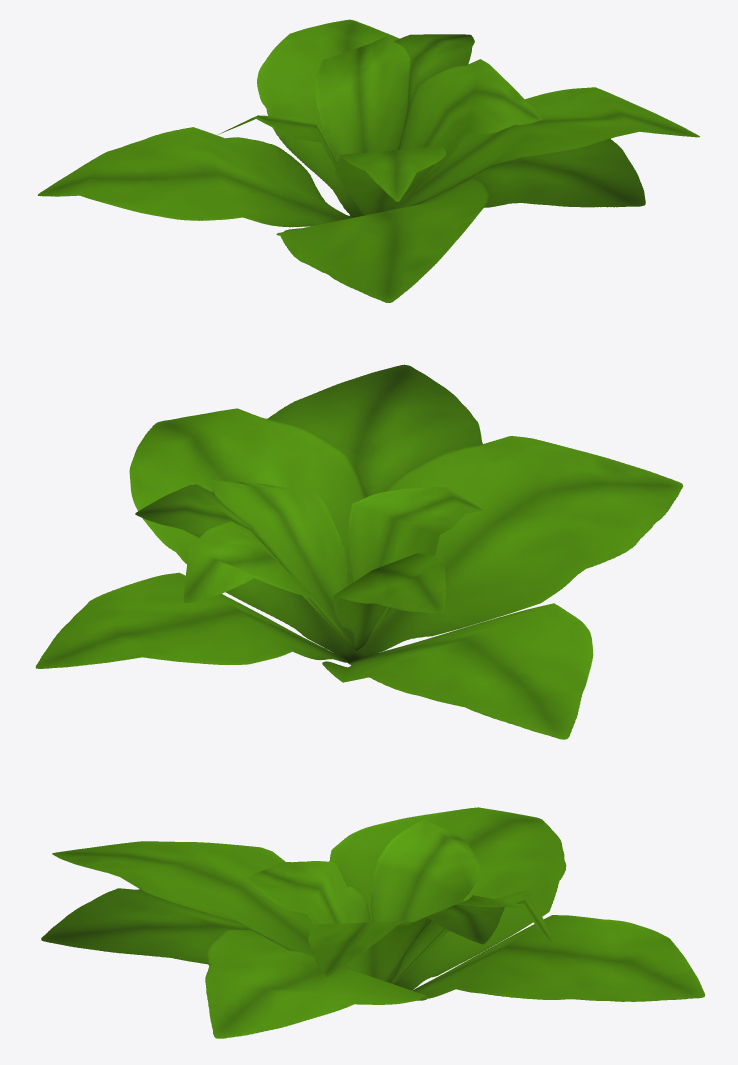
Rendered from Plant2.fbx.
The picture shows the model from 3 angles, top to bottom: view 1: azimuth 30°, elevation 25°; view 2: azimuth 150°, elevation 25°; view 3: azimuth 270°, elevation 25°; orthographic projection. The views are drawn at different scales.
Visible parts, largest first — view 1: Plane_Stylized23; view 2: Plane_Stylized23; view 3: Plane_Stylized23.
Part boxes in pixels (x1,y1,x2,y2): Plane_Stylized23: (37,19,699,302); Plane_Stylized23: (35,364,683,739); Plane_Stylized23: (41,807,704,1038).
Size of the model in its own units: 10.96 by 2.7 by 11.61.
